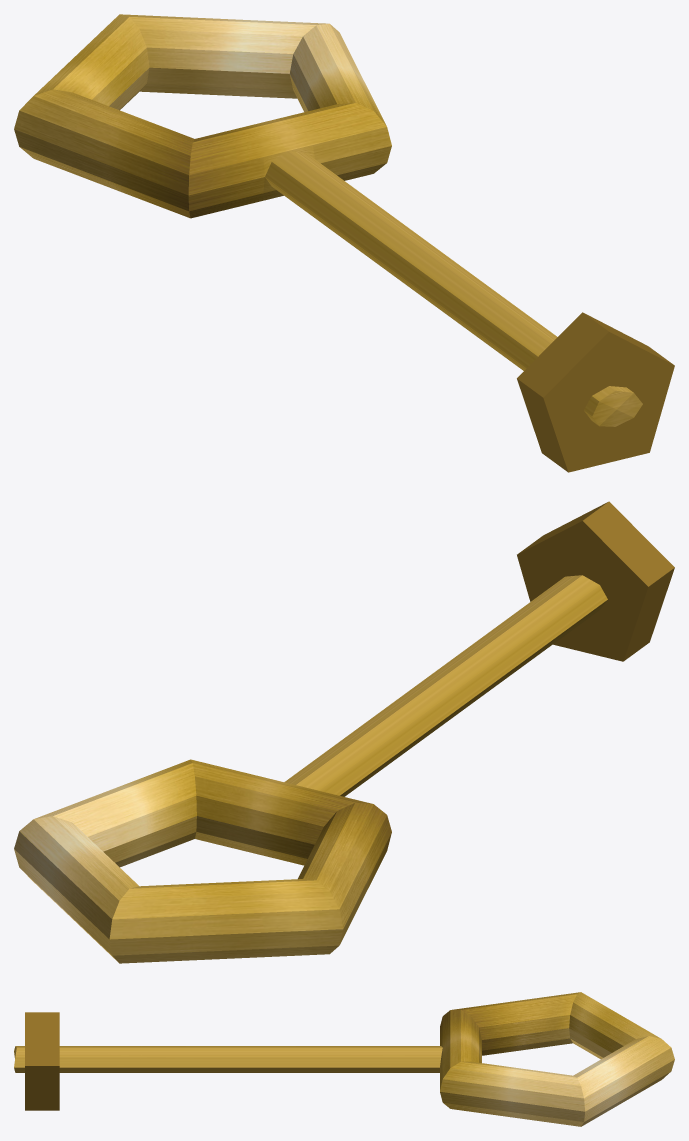
The model's file is pentagonkey.obj.
The picture shows the model from 3 angles, top to bottom: view 1: azimuth 30°, elevation 25°; view 2: azimuth 150°, elevation 25°; view 3: azimuth 270°, elevation 25°; orthographic projection. The views are drawn at different scales.
Visible parts, largest first — view 1: Torus; view 2: Torus; view 3: Torus.
Boxes of the visible parts, bbox=[...] form: Torus: bbox=[14, 14, 674, 472]; Torus: bbox=[14, 501, 674, 963]; Torus: bbox=[14, 992, 674, 1126].
Bounding box in the file's own units: 2.38 × 0.9045 × 6.36.
